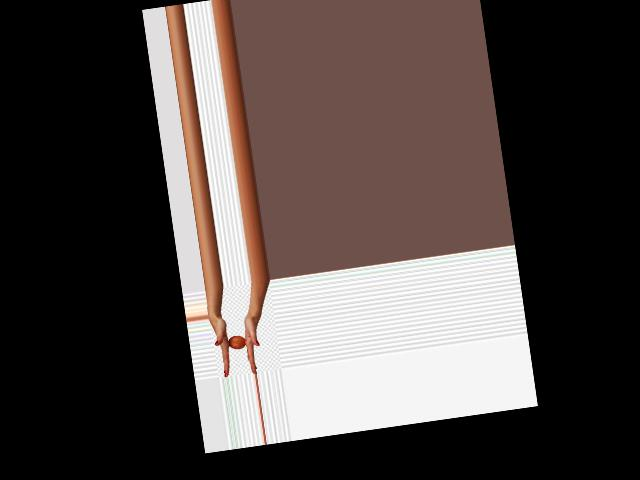egg: (228, 334, 246, 349)
